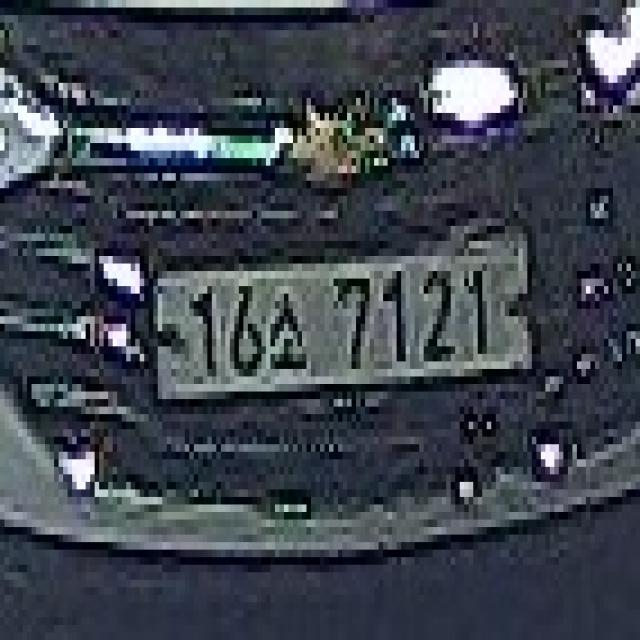1: (185, 278, 221, 392), (460, 256, 496, 361), (383, 271, 415, 377)
2: (414, 264, 460, 376)
6: (225, 278, 266, 392)
7: (329, 264, 379, 376)
license_plate: (144, 226, 541, 422)
so: (266, 286, 311, 384)
